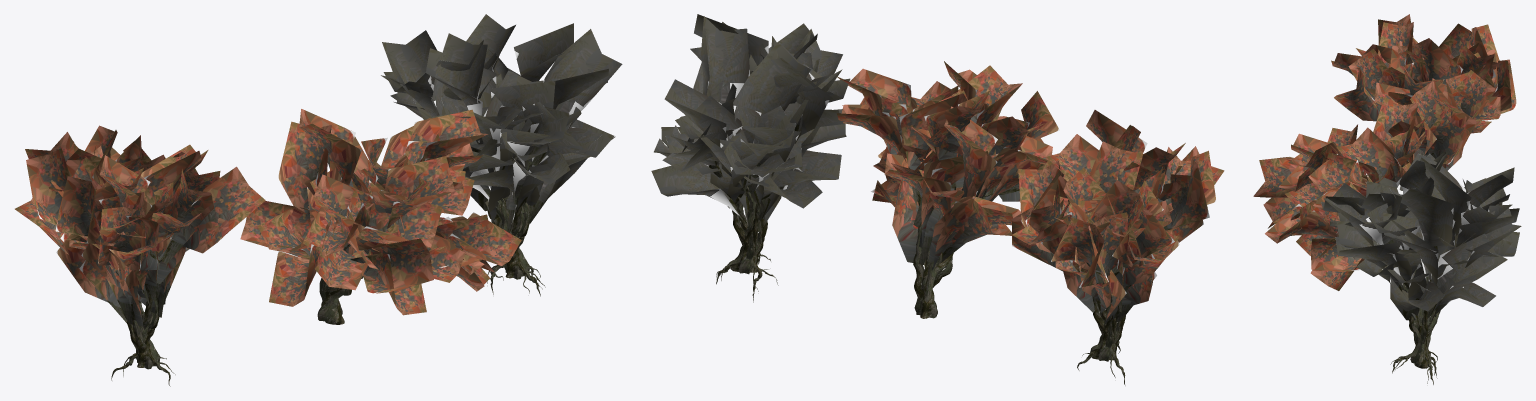
Rendered from TREE.fbx.
3 views of the same model, side by side, from view 1: azimuth 30°, elevation 25°; view 2: azimuth 150°, elevation 25°; view 3: azimuth 270°, elevation 25° (orthographic). The views are drawn at different scales.
Visible parts, largest first — view 1: Object_6, Object_2, Object_3, Object_4, Object_5; view 2: Object_6, Object_2, Object_3, Object_5, Object_4; view 3: Object_6, Object_2, Object_3.
Boxes of the visible parts, <box> form: Object_6: <box>15,109,521,326</box>; Object_2: <box>381,14,622,232</box>; Object_3: <box>480,150,545,296</box>; Object_4: <box>111,259,175,386</box>; Object_5: <box>317,247,351,324</box>; Object_6: <box>836,61,1224,323</box>; Object_2: <box>651,14,850,232</box>; Object_3: <box>716,165,778,302</box>; Object_5: <box>913,186,1002,318</box>; Object_4: <box>1077,297,1125,385</box>; Object_6: <box>1253,14,1517,290</box>; Object_2: <box>1321,150,1521,325</box>; Object_3: <box>1390,284,1440,384</box>.
Bounding box in the file's own units: 6094 × 2778 × 3156.
Materials: 4 (4 with a texture image).
